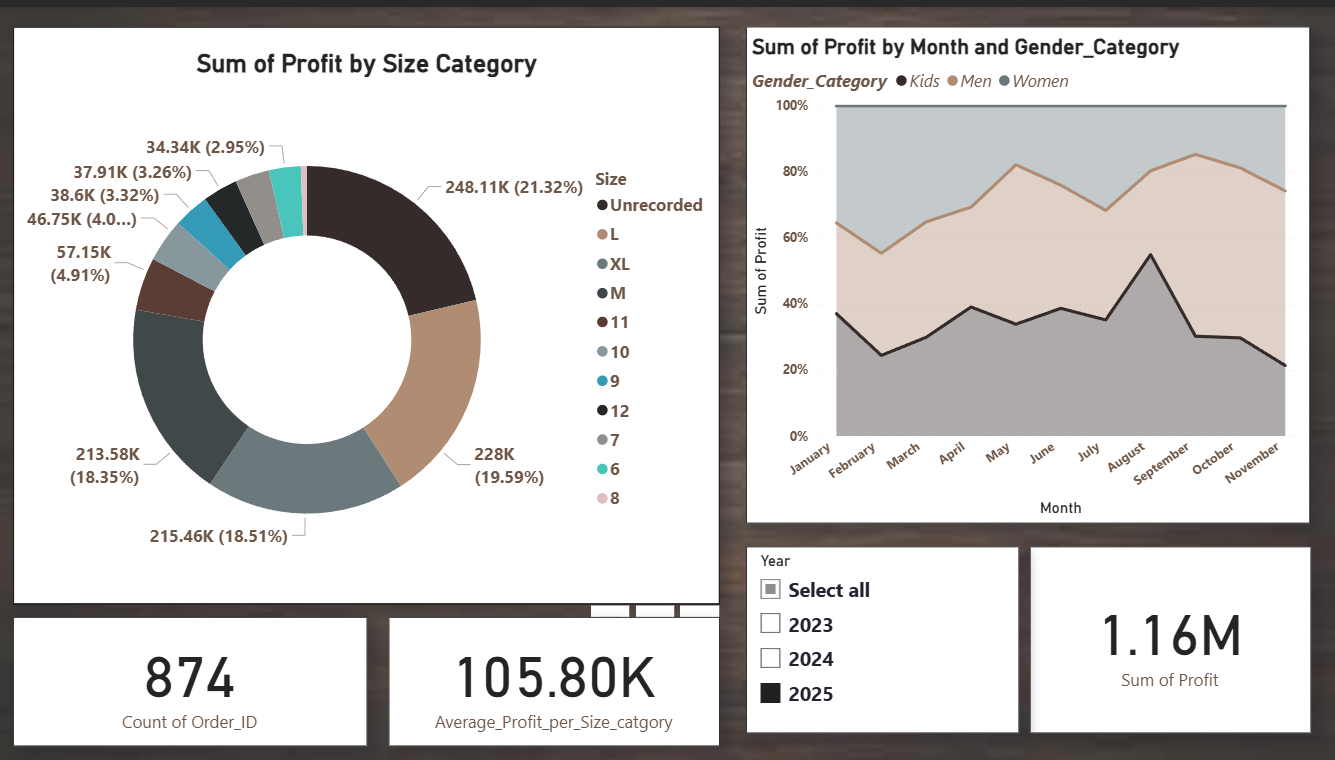

The page's visual inventory and layout, read from the dashboard file:
{"tool":"powerbi","page":{"name":"Profit Distribution by Size Catedory","canvas":[1280,720],"ordinal":6},"visuals":[{"type":"donutChart","title":"Sum of Profit by Size Category","fields":{"Category":["nike_sales_cleaned.Size"],"Y":["nike_sales_cleaned.Sum of Profit"]},"box":[12.8,18.4,673.7,550.7],"z":0},{"type":"card","fields":{"Values":["Sum(nike_sales_cleaned.Profit)"]},"box":[982,514,268,178],"z":1000},{"type":"slicer","fields":{"Values":["nike_sales_cleaned.Order_Date.Variation.Date Hierarchy.Year"]},"box":[712.2,514,260.7,178],"z":2000},{"type":"card","fields":{"Values":["CountNonNull(nike_sales_cleaned.Order_ID)"]},"box":[12.8,581.9,337.7,123],"z":3000},{"type":"hundredPercentStackedAreaChart","fields":{"Y":["Sum(nike_sales_cleaned.Profit)"],"Series":["nike_sales_cleaned.Gender_Category"],"Category":["nike_sales_cleaned.Order_Date.Variation.Date Hierarchy.Month"]},"box":[712.2,18.4,537.8,473.6],"z":4000},{"type":"card","fields":{"Values":["nike_sales_cleaned.Average_Profit_per_Size_catgory"]},"box":[370.8,581.9,315.7,123],"z":5000}]}

Visuals, with their boxes in screenshot pixels (x1, y1, x2, y2), scaled from the page's 1280x720 canvas onto the 1335x760 screenshot:
"Sum of Profit by Size Category" donutChart: bbox(13, 19, 716, 601)
card - Sum(nike_sales_cleaned.Profit): bbox(1024, 543, 1304, 730)
slicer - nike_sales_cleaned.Order_Date.Variation.Date Hierarchy.Year: bbox(743, 543, 1015, 730)
card - CountNonNull(nike_sales_cleaned.Order_ID): bbox(13, 614, 366, 744)
hundredPercentStackedAreaChart - Sum(nike_sales_cleaned.Profit) x nike_sales_cleaned.Gender_Category: bbox(743, 19, 1304, 519)
card - nike_sales_cleaned.Average_Profit_per_Size_catgory: bbox(387, 614, 716, 744)
